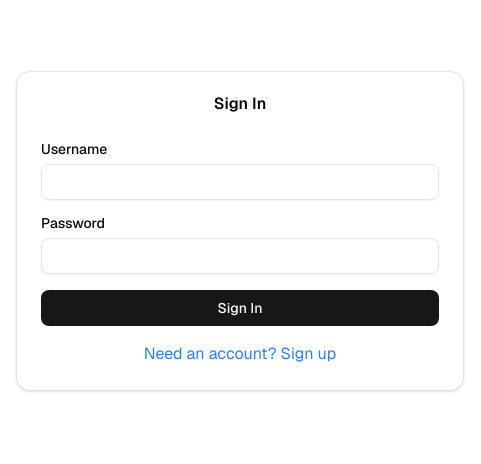
Scenario: AuthForm › shows error message on failed registration
Note: Switch to register form
Click the button "Need an account? Sign up" at (240, 354), box [144,342,336,366]
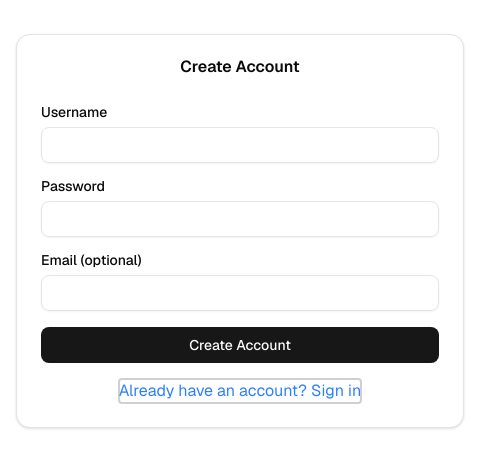
Type "existinguser" into the field labelled "Username" at (240, 145), box [41,127,439,163]
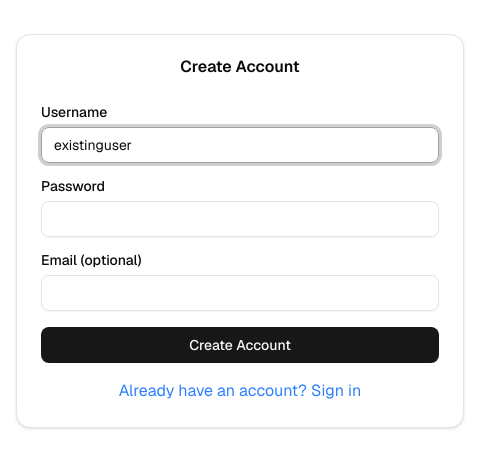
Type "password123" into the password field labelled "Password" at (240, 219), box [41,201,439,237]
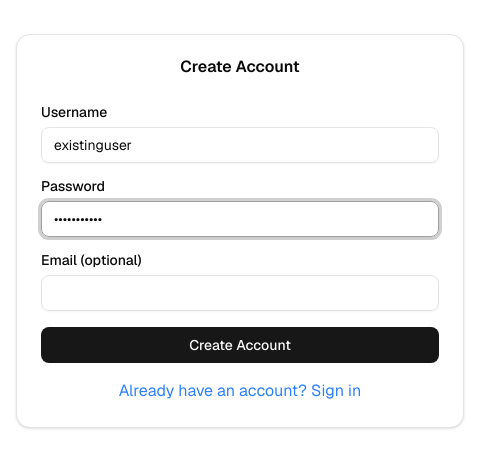
Click the button "Create Account" at (240, 345), box [41,327,439,363]
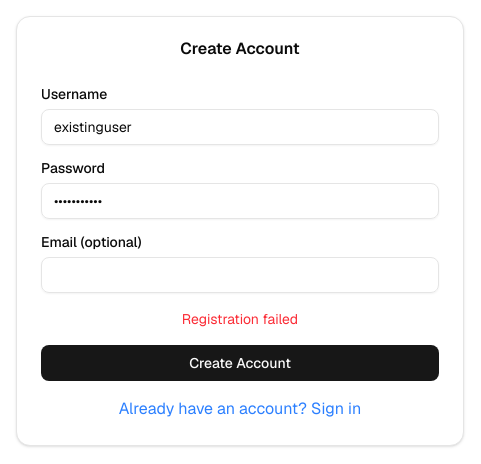
Check: the text "Registration failed" is shown, box [182,310,298,328]
